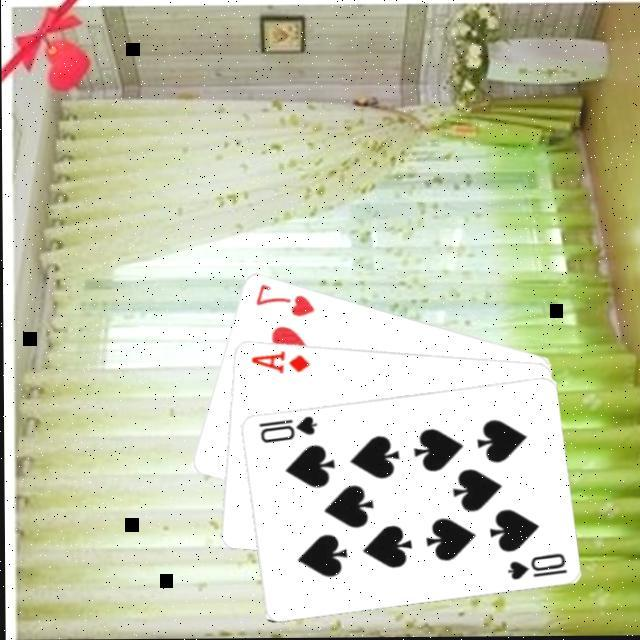10S: (501, 549, 566, 583), (252, 412, 317, 445)
7H: (250, 280, 316, 320)
AD: (245, 347, 309, 375)
